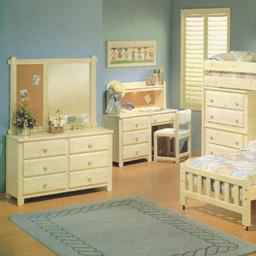Cama: (181, 136, 254, 214)
